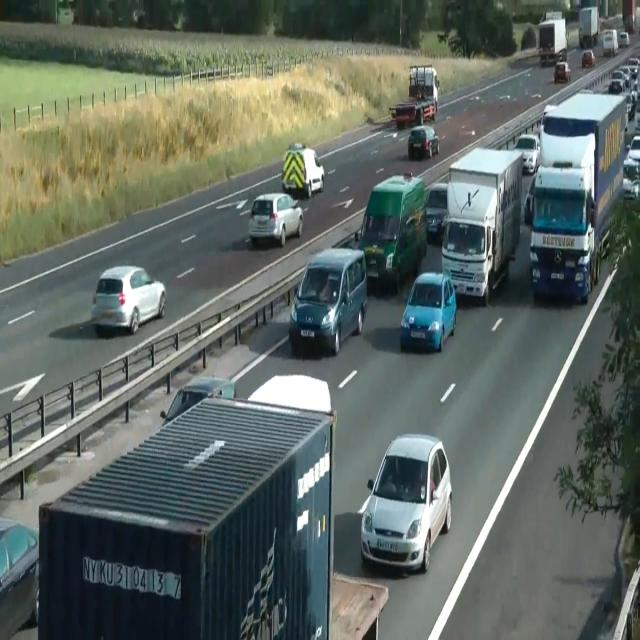bus: (90, 264, 166, 335), (0, 515, 39, 639), (400, 271, 457, 353), (159, 374, 235, 430), (248, 192, 304, 247), (612, 559, 640, 639), (424, 182, 448, 244), (513, 132, 541, 174), (408, 125, 440, 159), (622, 158, 640, 212), (524, 171, 538, 224), (626, 134, 640, 164), (554, 61, 570, 83), (581, 49, 595, 68), (618, 31, 630, 46)
car: (527, 163, 597, 304)
jeep: (358, 431, 452, 573), (288, 246, 367, 356), (280, 142, 324, 198)
minibus: (37, 380, 387, 639), (526, 91, 628, 304), (441, 147, 523, 305), (353, 170, 428, 292), (389, 64, 439, 129), (537, 16, 568, 67), (409, 64, 439, 112), (578, 5, 599, 48), (602, 28, 618, 56)
